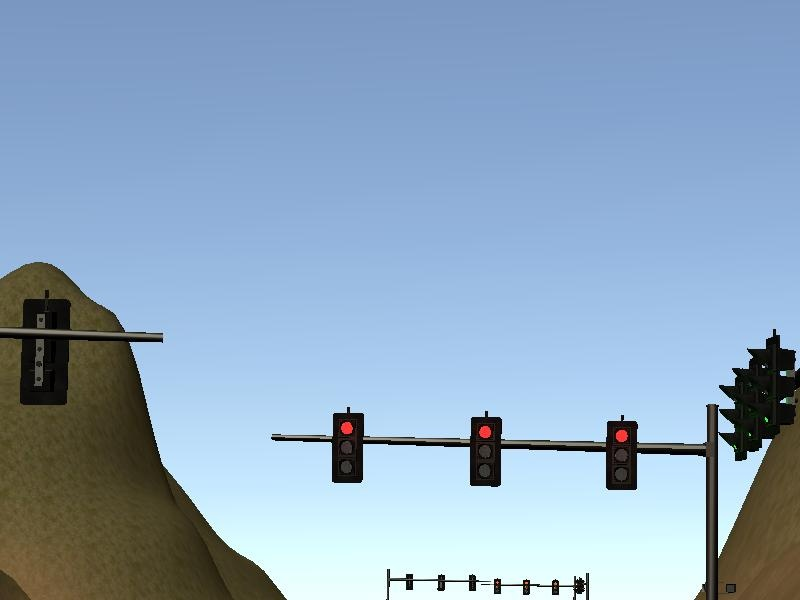RED: (332, 412, 362, 482), (469, 416, 499, 486), (605, 421, 635, 491)
